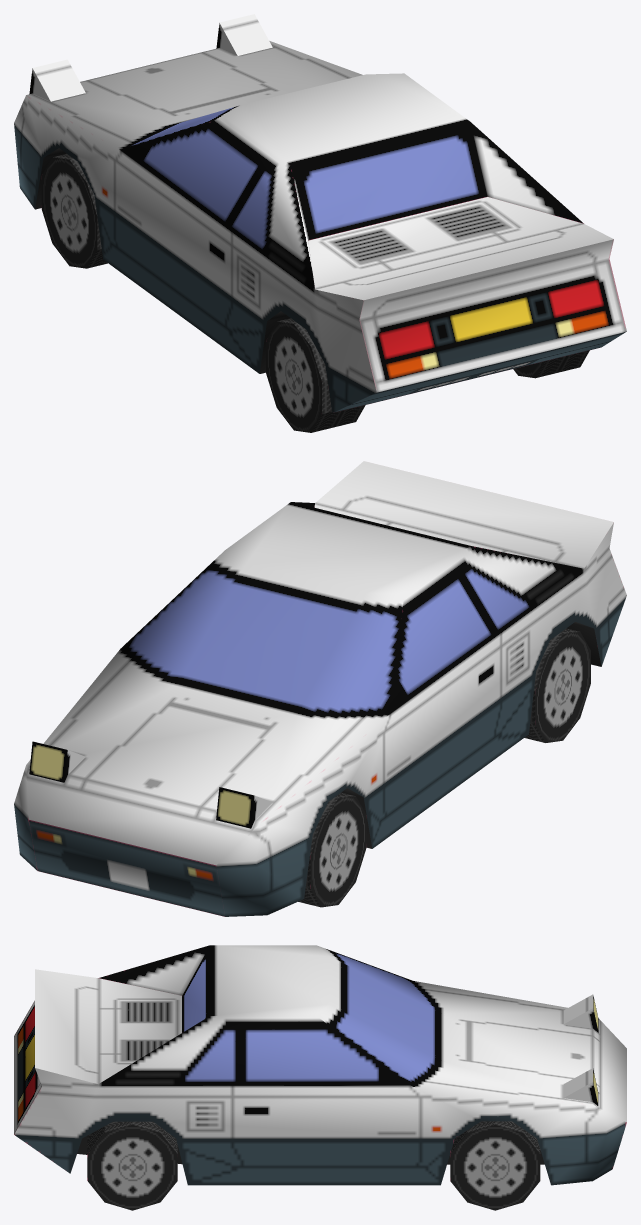
Rendered from car_spyder_psx.fbx.
The picture shows the model from 3 angles, top to bottom: view 1: azimuth 30°, elevation 25°; view 2: azimuth 150°, elevation 25°; view 3: azimuth 270°, elevation 25°; orthographic projection. The views are drawn at different scales.
Visible parts, largest first — view 1: spyder_psx, wheel_RL, wheel_FL, light_L, light_R, wheel_RR; view 2: spyder_psx, wheel_RL, wheel_FL, light_L, light_R; view 3: spyder_psx, wheel_RR, wheel_FR, light_L, light_R.
Part boxes in pixels (x1,y1,x2,y2): spyder_psx: [14, 41, 626, 412]; wheel_RL: [266, 318, 365, 432]; wheel_FL: [41, 154, 107, 268]; light_L: [29, 59, 85, 101]; light_R: [216, 14, 272, 55]; wheel_RR: [513, 350, 589, 378]; spyder_psx: [14, 461, 626, 916]; wheel_RL: [524, 628, 590, 742]; wheel_FL: [298, 792, 366, 907]; light_L: [216, 787, 272, 828]; light_R: [29, 741, 85, 782]; spyder_psx: [14, 945, 626, 1185]; wheel_RR: [87, 1121, 177, 1210]; wheel_FR: [450, 1121, 540, 1210]; light_L: [563, 994, 598, 1032]; light_R: [563, 1068, 598, 1105].
Bounding box in the file's own units: 180 × 140 × 439.
1 material, 1 textured.
